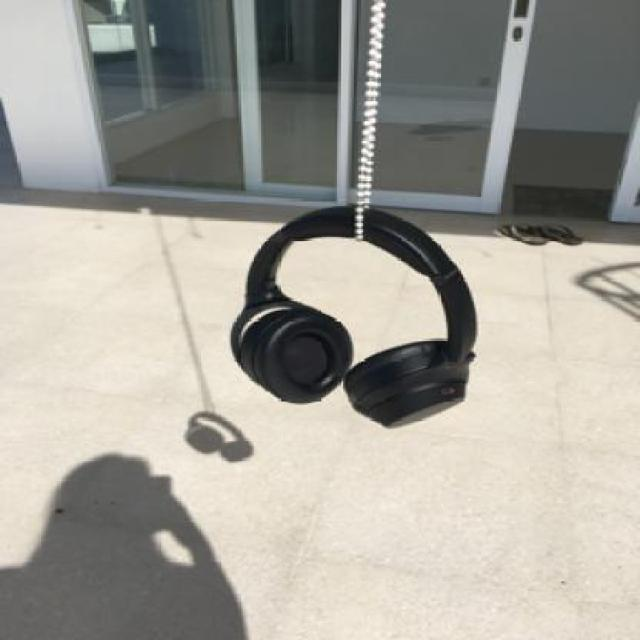earphone: (204, 133, 484, 440)
